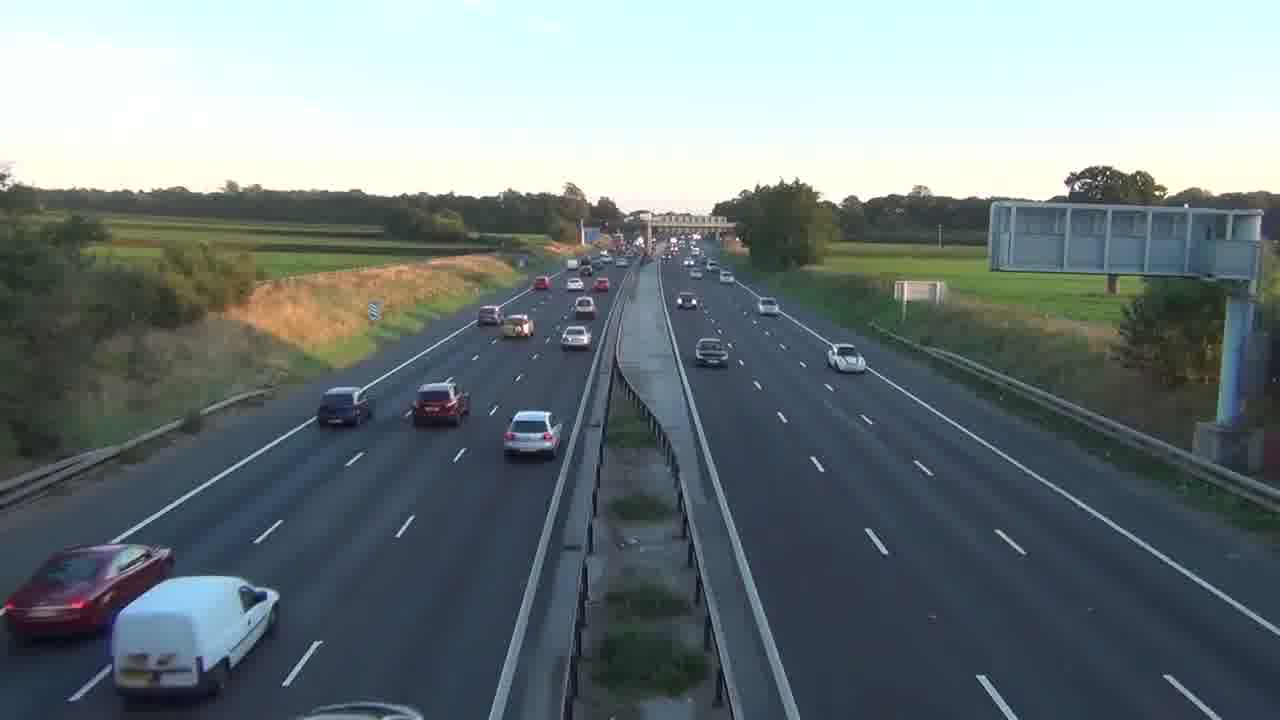car: (0, 541, 176, 645), (502, 409, 563, 458), (413, 379, 471, 427), (318, 385, 373, 428), (301, 700, 424, 719), (827, 343, 868, 374), (694, 336, 729, 367), (560, 323, 593, 351), (592, 276, 610, 293)
truck: (108, 574, 280, 700)
